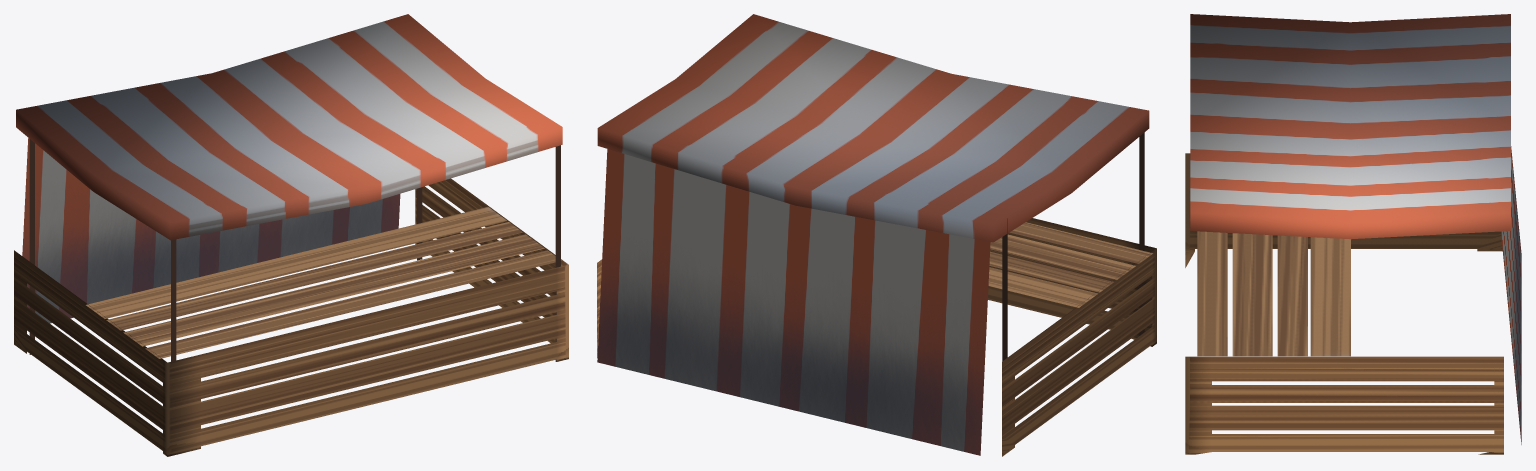
Rendered from PuestoElotesT.fbx.
3 renders of one model, left to right at view 1: azimuth 30°, elevation 25°; view 2: azimuth 150°, elevation 25°; view 3: azimuth 270°, elevation 25°, orthographic. The views are drawn at different scales.
Visible parts, largest first — view 1: Boxuvs; view 2: Boxuvs; view 3: Boxuvs.
Part boxes in pixels (x1=…): Boxuvs: x1=14, y1=14, x2=568, y2=456; Boxuvs: x1=597, y1=14, x2=1156, y2=456; Boxuvs: x1=1185, y1=14, x2=1521, y2=454.
Bounding box in the file's own units: 101 × 56.29 × 70.22.
Materials: 1 (1 with a texture image).
